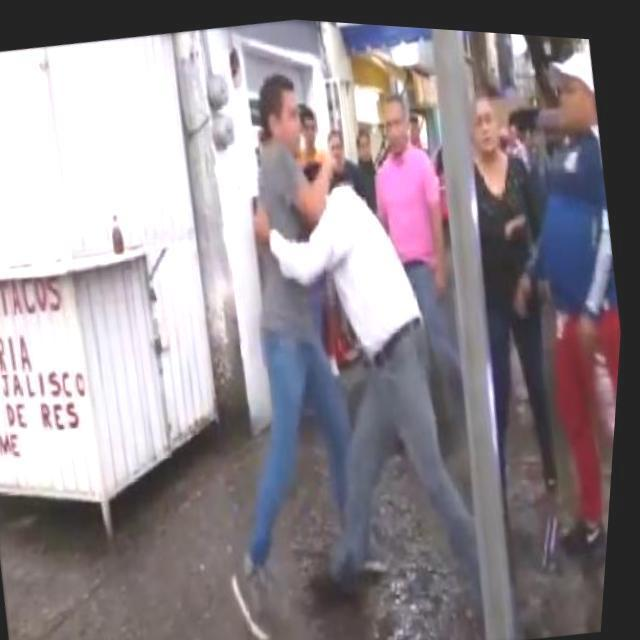fight: (203, 38, 518, 610)
